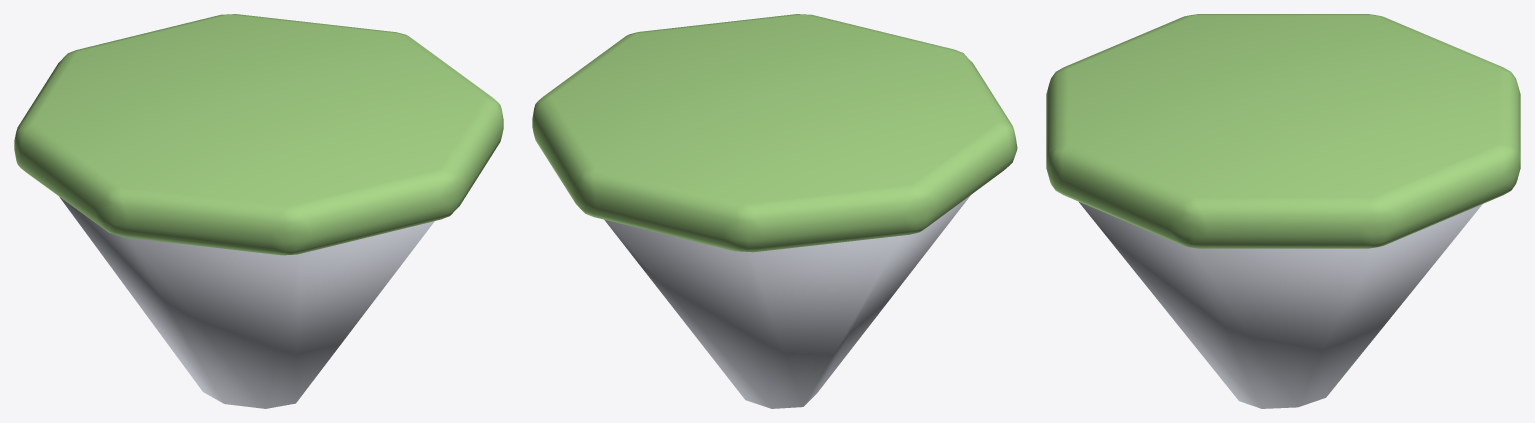
Rendered from platform.fbx.
The picture shows the model from 3 angles, left to right: view 1: azimuth 30°, elevation 25°; view 2: azimuth 150°, elevation 25°; view 3: azimuth 270°, elevation 25°; orthographic projection. The views are drawn at different scales.
Visible parts, largest first — view 1: Platform; view 2: Platform; view 3: Platform.
Part boxes in pixels (bbox=[...]): Platform: bbox=[14, 14, 503, 408]; Platform: bbox=[532, 14, 1017, 408]; Platform: bbox=[1046, 14, 1520, 408].
Size of the model in its own units: 0.8684 by 0.58 by 0.8684.
